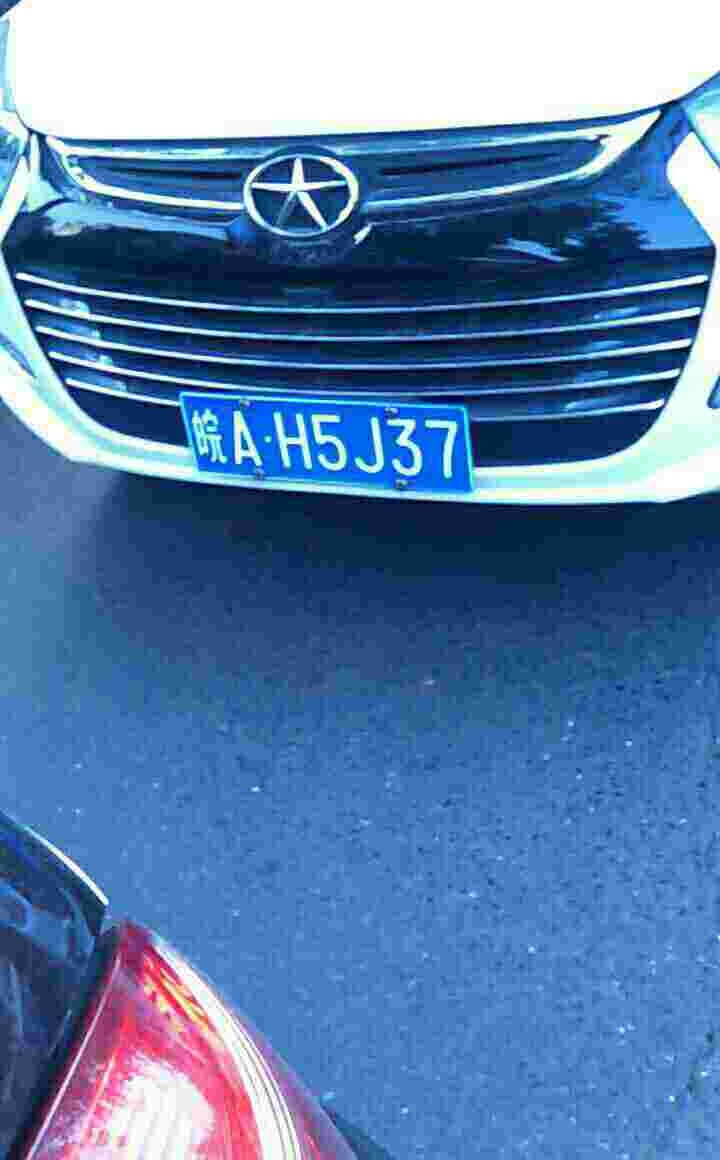license_plate: (178, 394, 468, 497)
